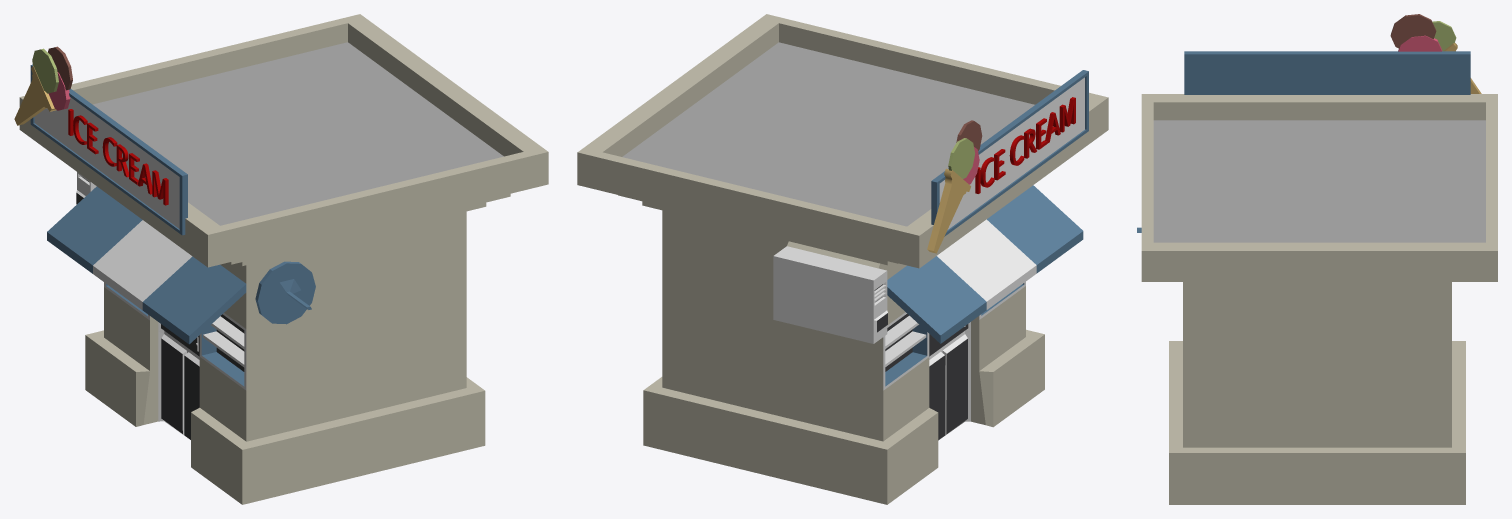
Rendered from Shop_3.fbx.
The picture shows the model from 3 angles, left to right: view 1: azimuth 30°, elevation 25°; view 2: azimuth 150°, elevation 25°; view 3: azimuth 270°, elevation 25°; orthographic projection. The views are drawn at different scales.
Visible parts, largest first — view 1: Shop; view 2: Shop; view 3: Shop.
Boxes of the visible parts, left/top/right/bottom form: Shop: left=14, top=14, right=548, bottom=504; Shop: left=577, top=14, right=1108, bottom=504; Shop: left=1137, top=14, right=1497, bottom=504.
Bounding box in the file's own units: 0.2691 × 0.2745 × 0.2539.
